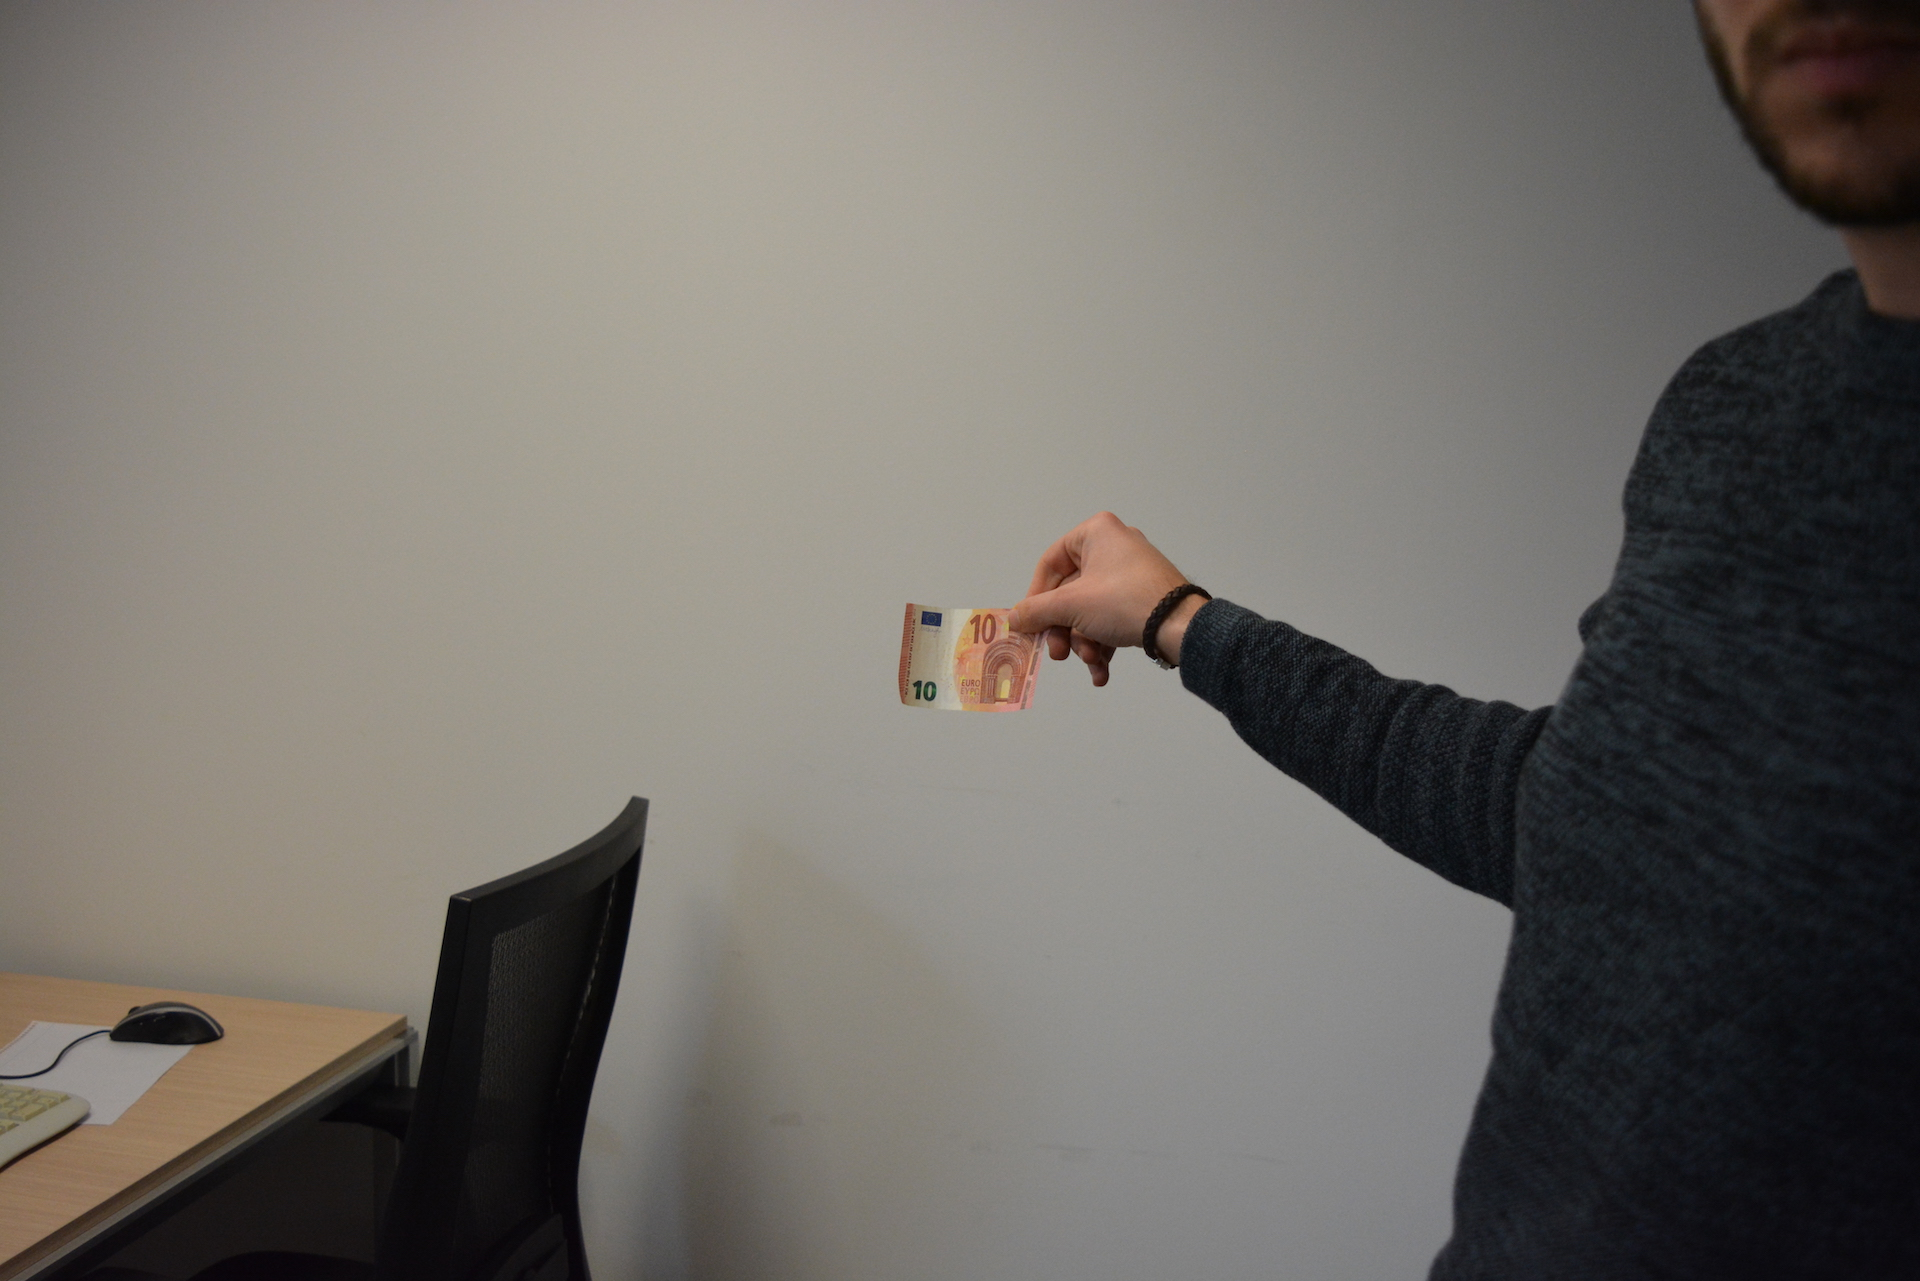billete: (896, 600, 1048, 713)
